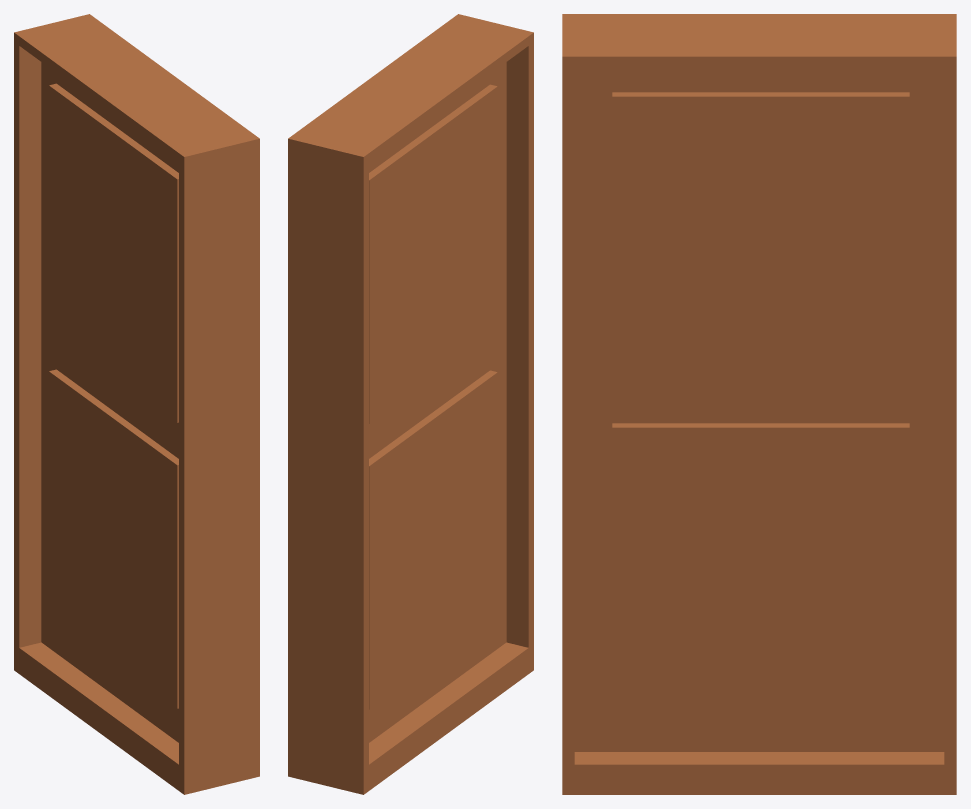
Rendered from door.fbx.
3 views of the same model, side by side, from view 1: azimuth 30°, elevation 25°; view 2: azimuth 150°, elevation 25°; view 3: azimuth 270°, elevation 25° (orthographic). The views are drawn at different scales.
Parts seen in each view (by area): view 1: door; view 2: door; view 3: door.
Part boxes in pixels (bbox=[...]): door: bbox=[14, 14, 259, 794]; door: bbox=[288, 14, 533, 794]; door: bbox=[562, 14, 956, 794].
Size of the model in its own units: 0.192 by 1.55 by 0.7488.
